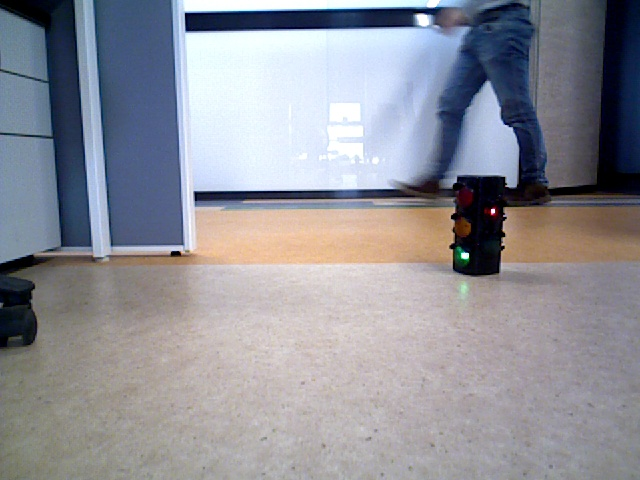green: (456, 176, 498, 275)
